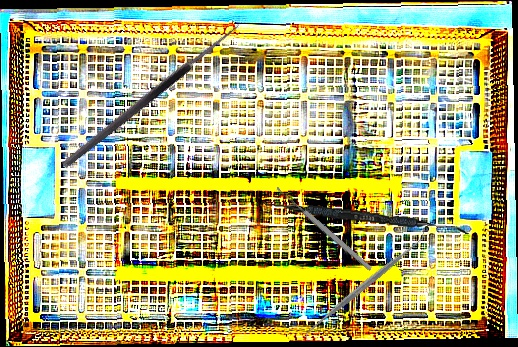Hook Surgical: (54, 11, 244, 171)
Spatula Surgical: (296, 226, 435, 343), (259, 200, 471, 234)
Surgical Spoon: (274, 185, 374, 272)
